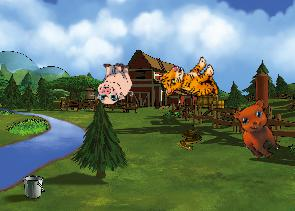bear: (225, 94, 293, 164)
pig: (95, 62, 133, 104)
tiger: (156, 50, 224, 114)
